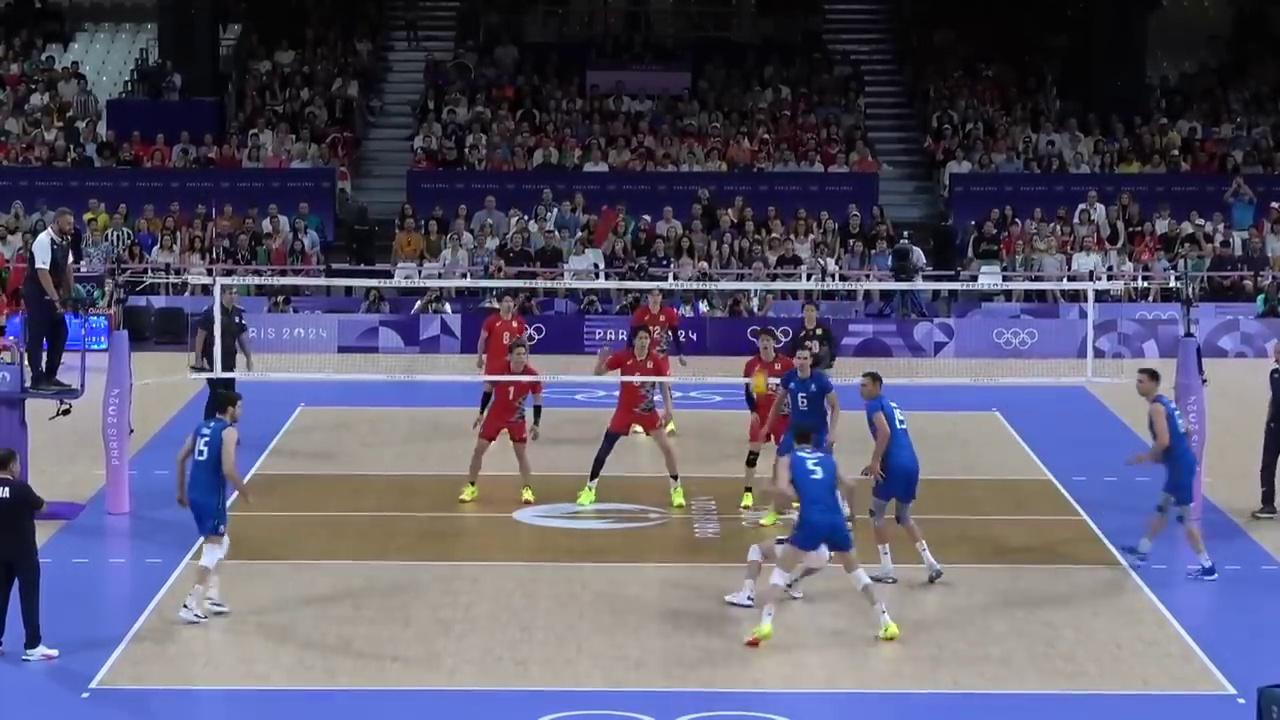ball: (752, 373, 768, 393)
